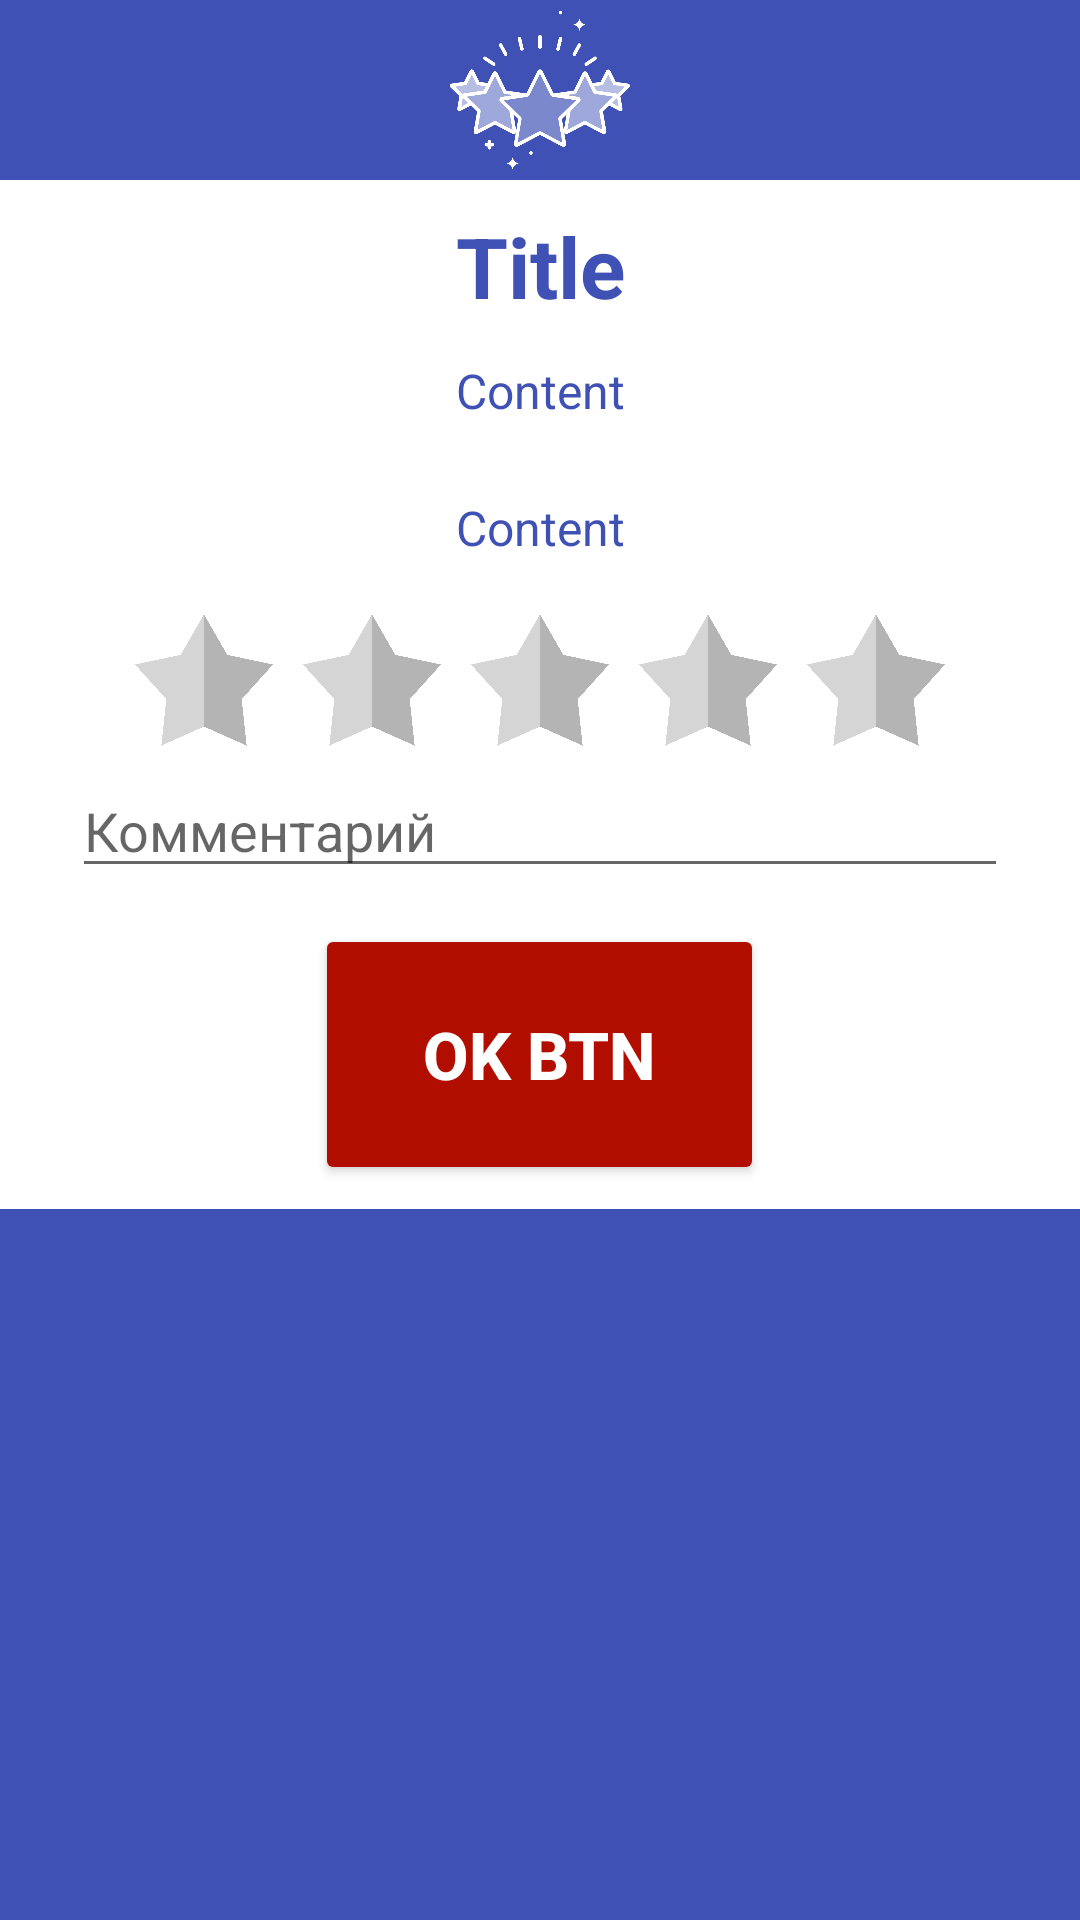

Where to tap for icons on this 1080 x 1920 app screen, as (x=x, y=y):
star deactive: (x=204, y=680), (x=372, y=680), (x=540, y=680), (x=708, y=680), (x=876, y=680)
